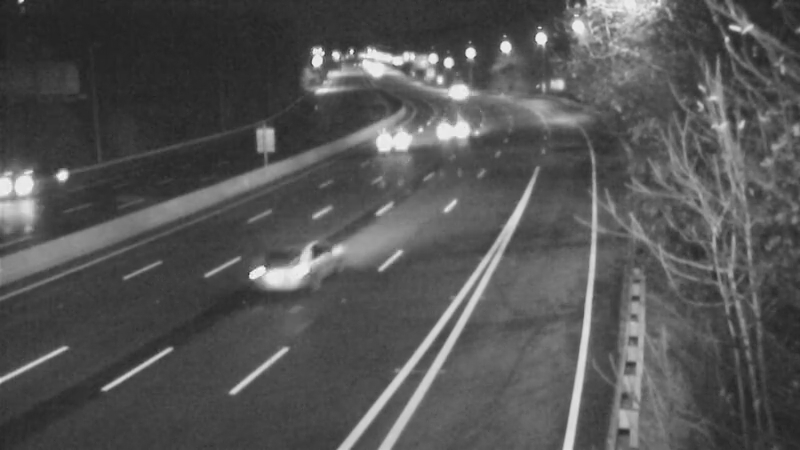vehicle: (259, 226, 339, 306), (1, 138, 71, 218), (431, 62, 481, 112), (422, 101, 472, 151), (367, 117, 417, 167)
